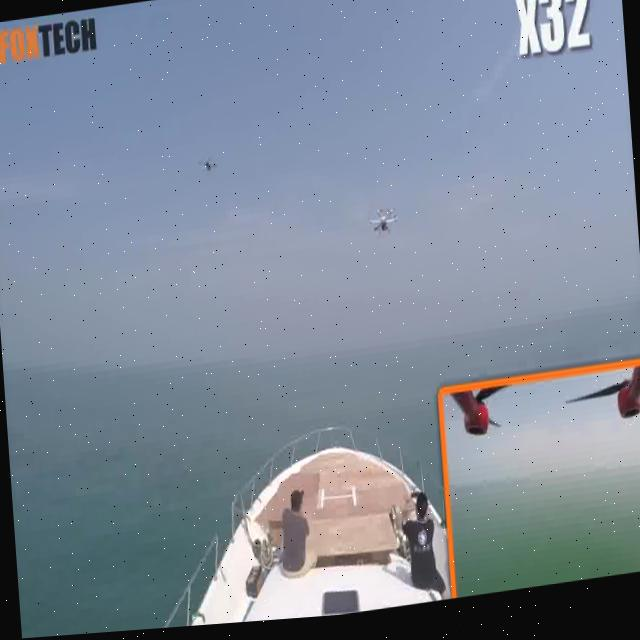drone: (361, 205, 404, 252), (192, 149, 225, 182)
